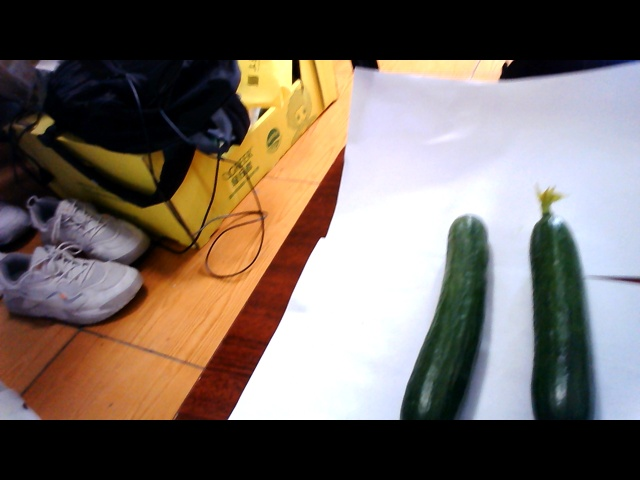cucumber: (528, 173, 613, 422), (403, 193, 489, 415)
